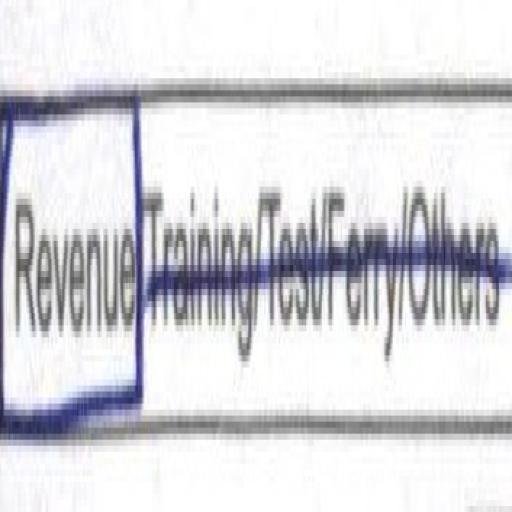check: (0, 12, 146, 512)
